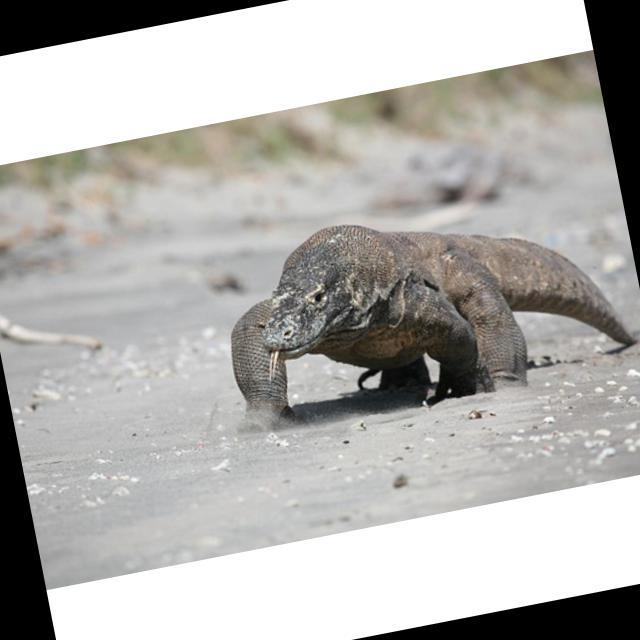KomodoDragon: (206, 171, 640, 440)
